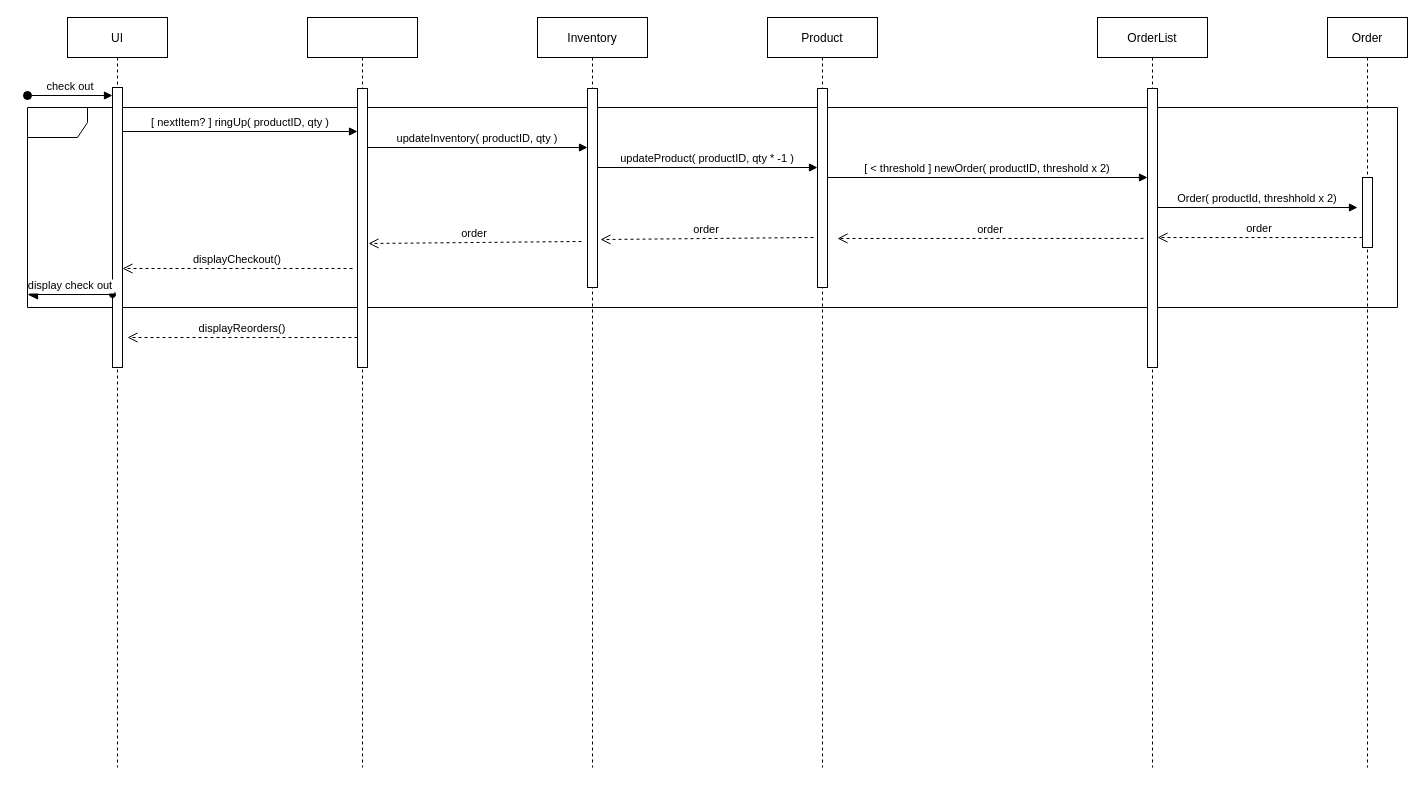
Some shapes in this 1425 by 785 pixel diagram are drawn without their labels. Each missing label, with the box of its shape:
loop: (26, 106, 1398, 308)
Store: (306, 16, 418, 768)
